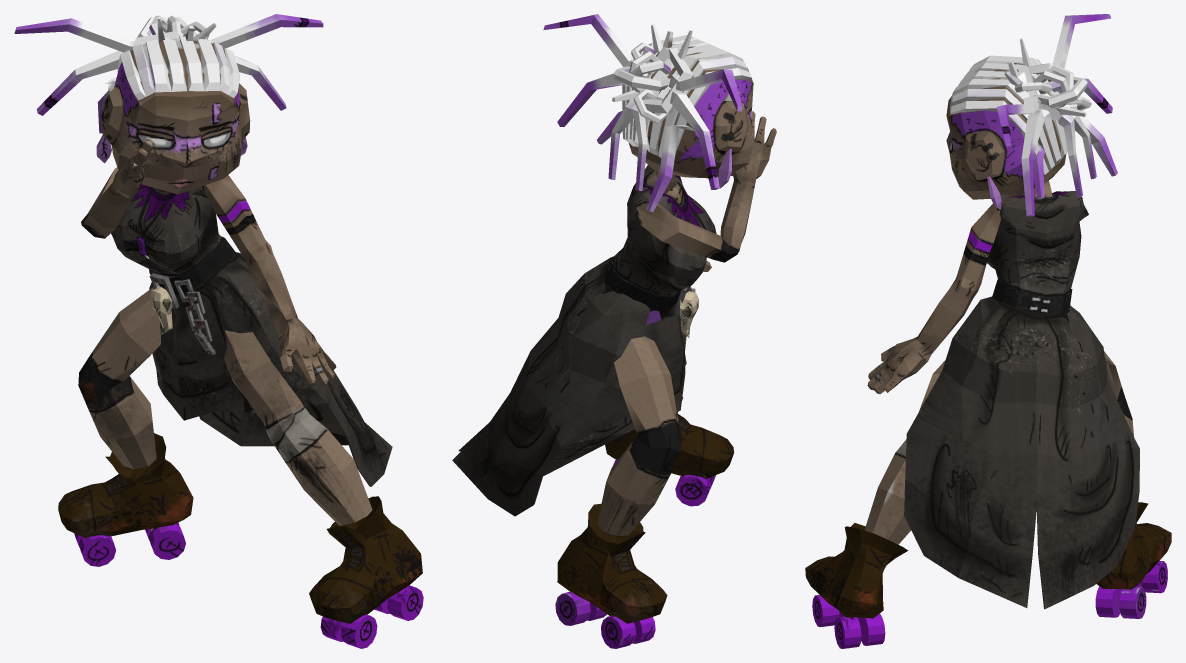
The model's file is bruja_000063.obj.
3 views of the same model, side by side, from view 1: azimuth 30°, elevation 25°; view 2: azimuth 150°, elevation 25°; view 3: azimuth 270°, elevation 25° (orthographic). The views are drawn at different scales.
Visible parts, largest first — view 1: Bruja_Plane.001; view 2: Bruja_Plane.001; view 3: Bruja_Plane.001.
Boxes of the visible parts, box(x1,y1,x2,y2) form: Bruja_Plane.001: box(14, 14, 423, 648); Bruja_Plane.001: box(452, 14, 776, 648); Bruja_Plane.001: box(805, 14, 1171, 648).
Bounding box in the file's own units: 9.21 × 15.42 × 9.25.
